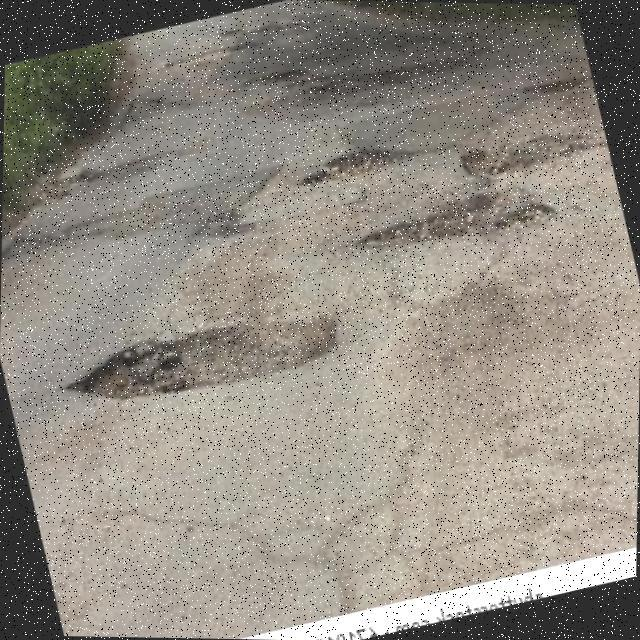Pothole: (64, 319, 336, 400), (250, 47, 467, 112), (356, 187, 554, 243), (459, 134, 591, 185), (300, 151, 418, 185)
